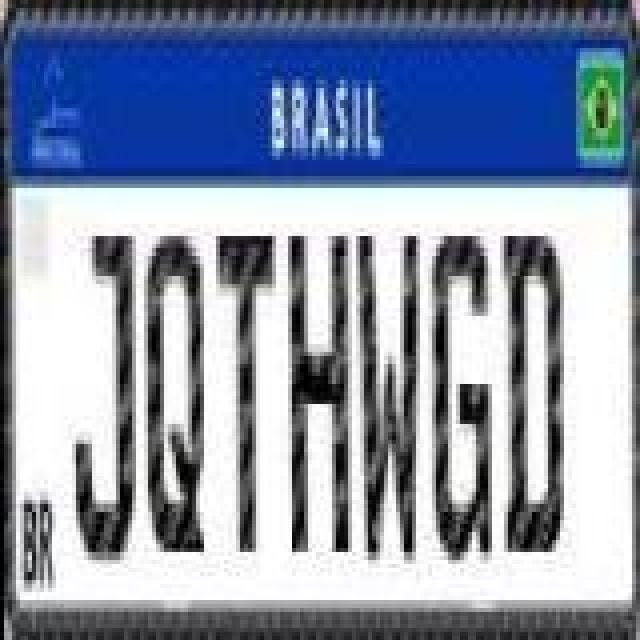D: (500, 224, 560, 560)
G: (428, 232, 488, 568)
H: (286, 224, 350, 560)
J: (74, 232, 138, 568)
Q: (142, 230, 206, 554)
T: (216, 230, 276, 554)
W: (354, 232, 418, 568)
